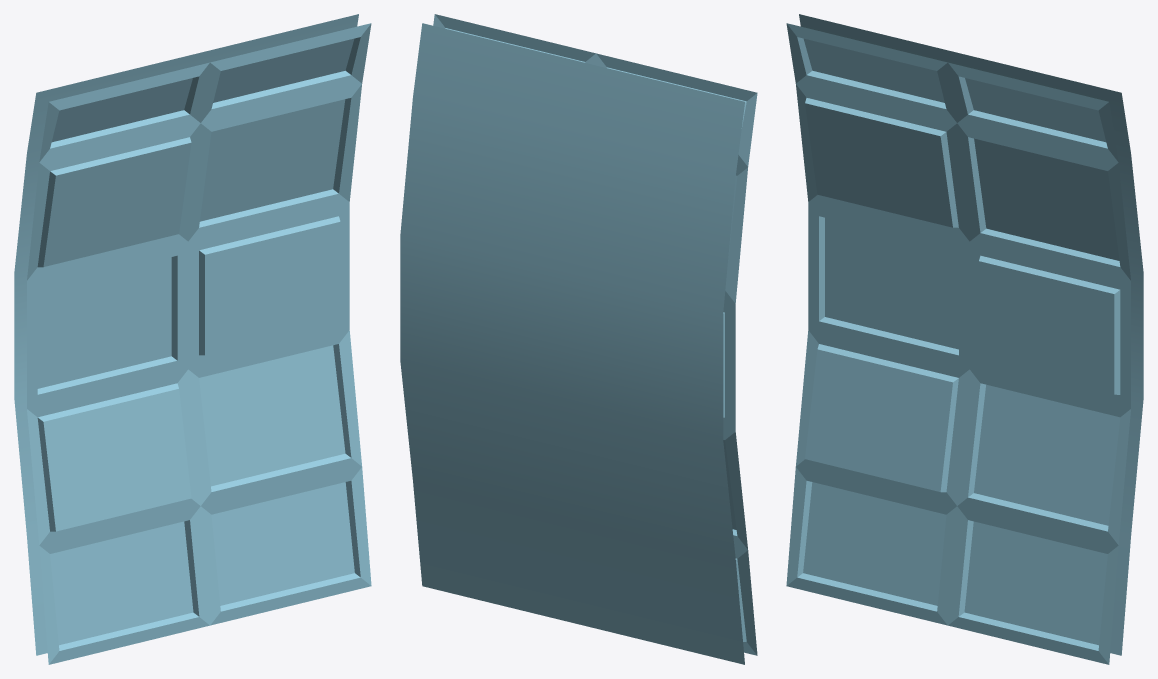
Rendered from sidewallBaseFull.FBX.
3 renders of one model, left to right at view 1: azimuth 30°, elevation 25°; view 2: azimuth 150°, elevation 25°; view 3: azimuth 330°, elevation 25°, orthographic.
Parts seen in each view (by area): view 1: sidewallBaseFull; view 2: sidewallBaseFull; view 3: sidewallBaseFull.
Boxes of the visible parts, left/top/right/bottom form: sidewallBaseFull: left=14, top=14, right=371, bottom=664; sidewallBaseFull: left=400, top=14, right=757, bottom=664; sidewallBaseFull: left=786, top=14, right=1143, bottom=664.
Bounding box in the file's own units: 1.5 × 2.5 × 0.2757.
